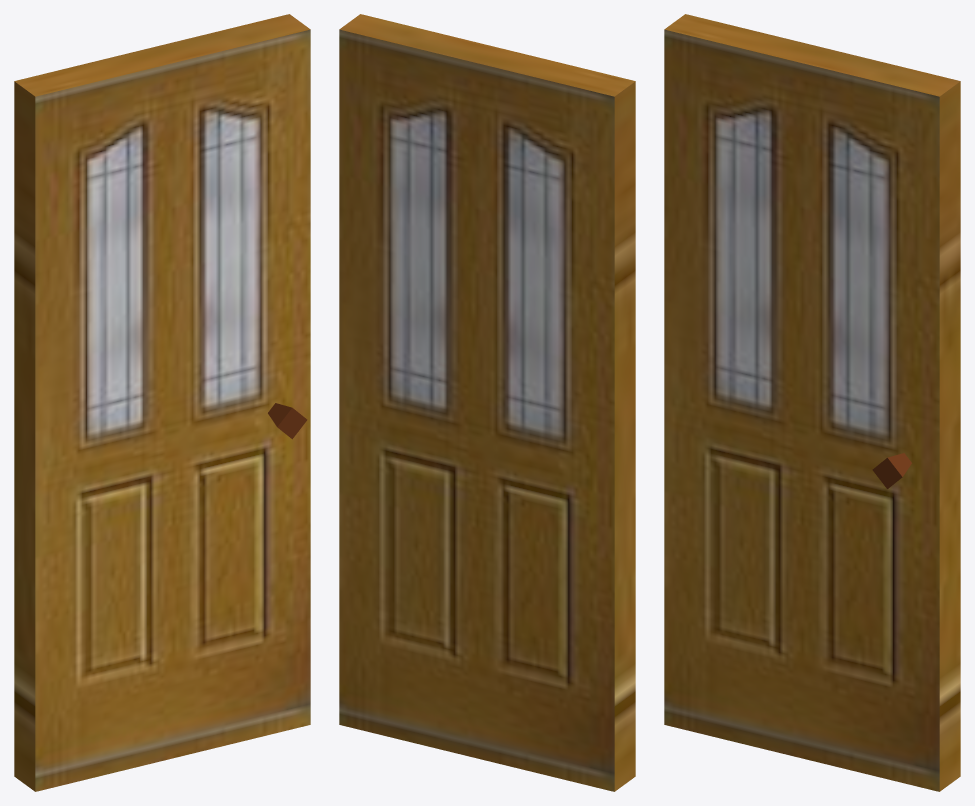
File: DoorSingleR.fbx
The picture shows the model from 3 angles, left to right: view 1: azimuth 30°, elevation 25°; view 2: azimuth 150°, elevation 25°; view 3: azimuth 330°, elevation 25°; orthographic projection.
Parts seen in each view (by area): view 1: Door_2m75, knobb; view 2: Door_2m75; view 3: Door_2m75, knobb.
Boxes of the visible parts, x1,y1,x2,y2 form: Door_2m75: (14, 14, 310, 791); knobb: (268, 403, 307, 439); Door_2m75: (339, 14, 635, 791); Door_2m75: (664, 14, 960, 791); knobb: (872, 453, 911, 488).
Size of the model in its own units: 84.95 by 205 by 20.35.
Materials: 2 (1 with a texture image).
